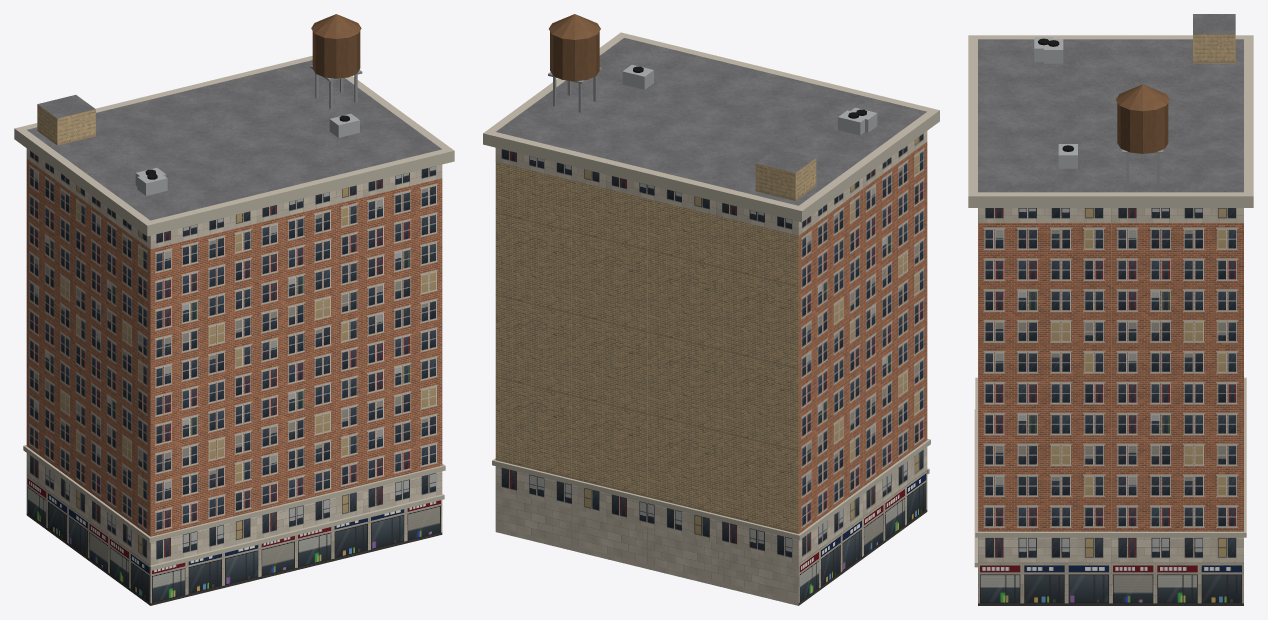
Rendered from 017_prewar_shops.glb.
3 views of the same model, side by side, from view 1: azimuth 30°, elevation 25°; view 2: azimuth 150°, elevation 25°; view 3: azimuth 270°, elevation 25° (orthographic). The views are drawn at different scales.
Visible parts, largest first — view 1: 017_prewar_shops; view 2: 017_prewar_shops; view 3: 017_prewar_shops.
Part boxes in pixels (x1,y1,x2,y2): 017_prewar_shops: [14, 14, 454, 605]; 017_prewar_shops: [483, 14, 939, 605]; 017_prewar_shops: [968, 14, 1253, 605].
Size of the model in its own units: 35.8 by 52.5 by 26.8.
11 materials, 7 textured.
